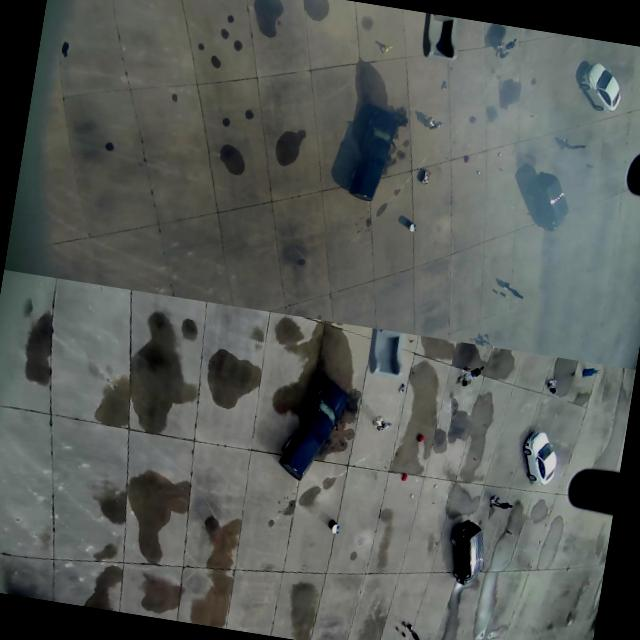car: (346, 95, 408, 208), (441, 516, 490, 586), (572, 58, 629, 116), (516, 427, 564, 488)
truck: (270, 371, 355, 488)
